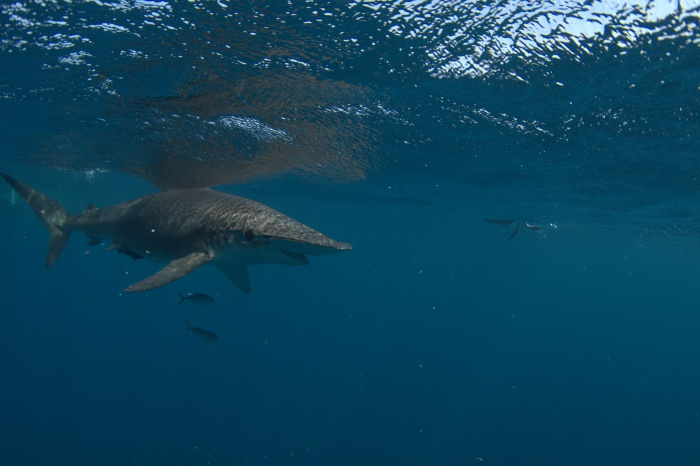Hammer: (1, 157, 358, 306)
